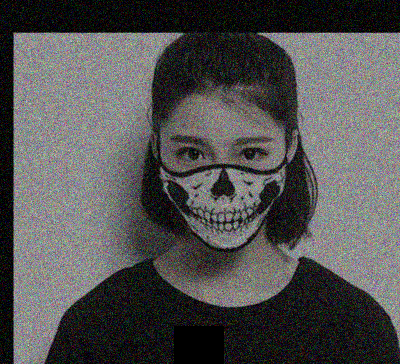with_mask: (157, 131, 289, 251)
